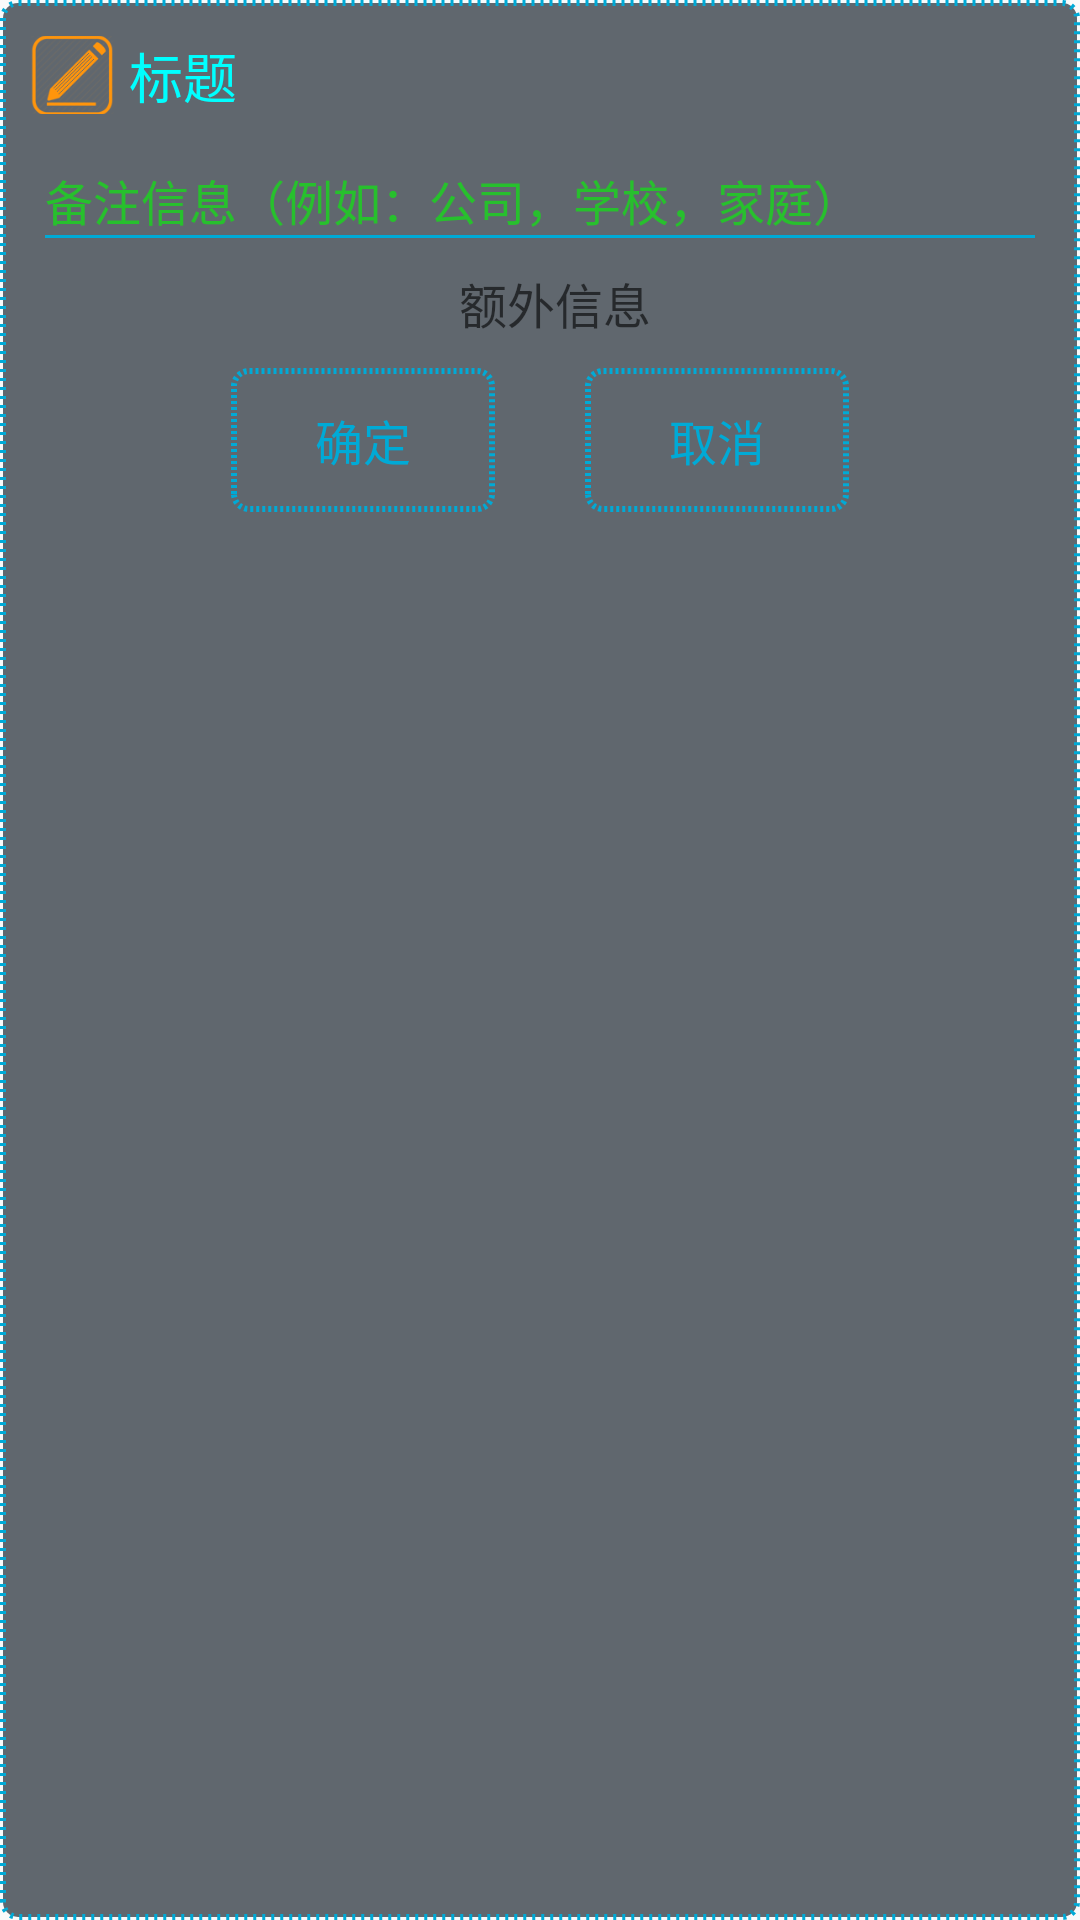

Screen size 1080×1920. Icon name, then its center in pixels as (x,y):
popupmenu set comment: (72,75)
